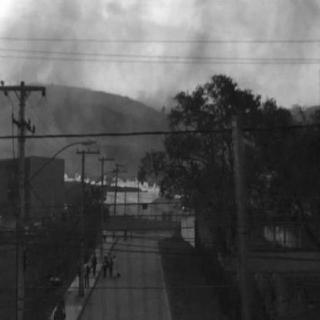Fire: (113, 177, 161, 193), (65, 172, 81, 182), (173, 192, 183, 198)
Smoke: (22, 24, 84, 80), (270, 4, 302, 60), (178, 34, 214, 78)
